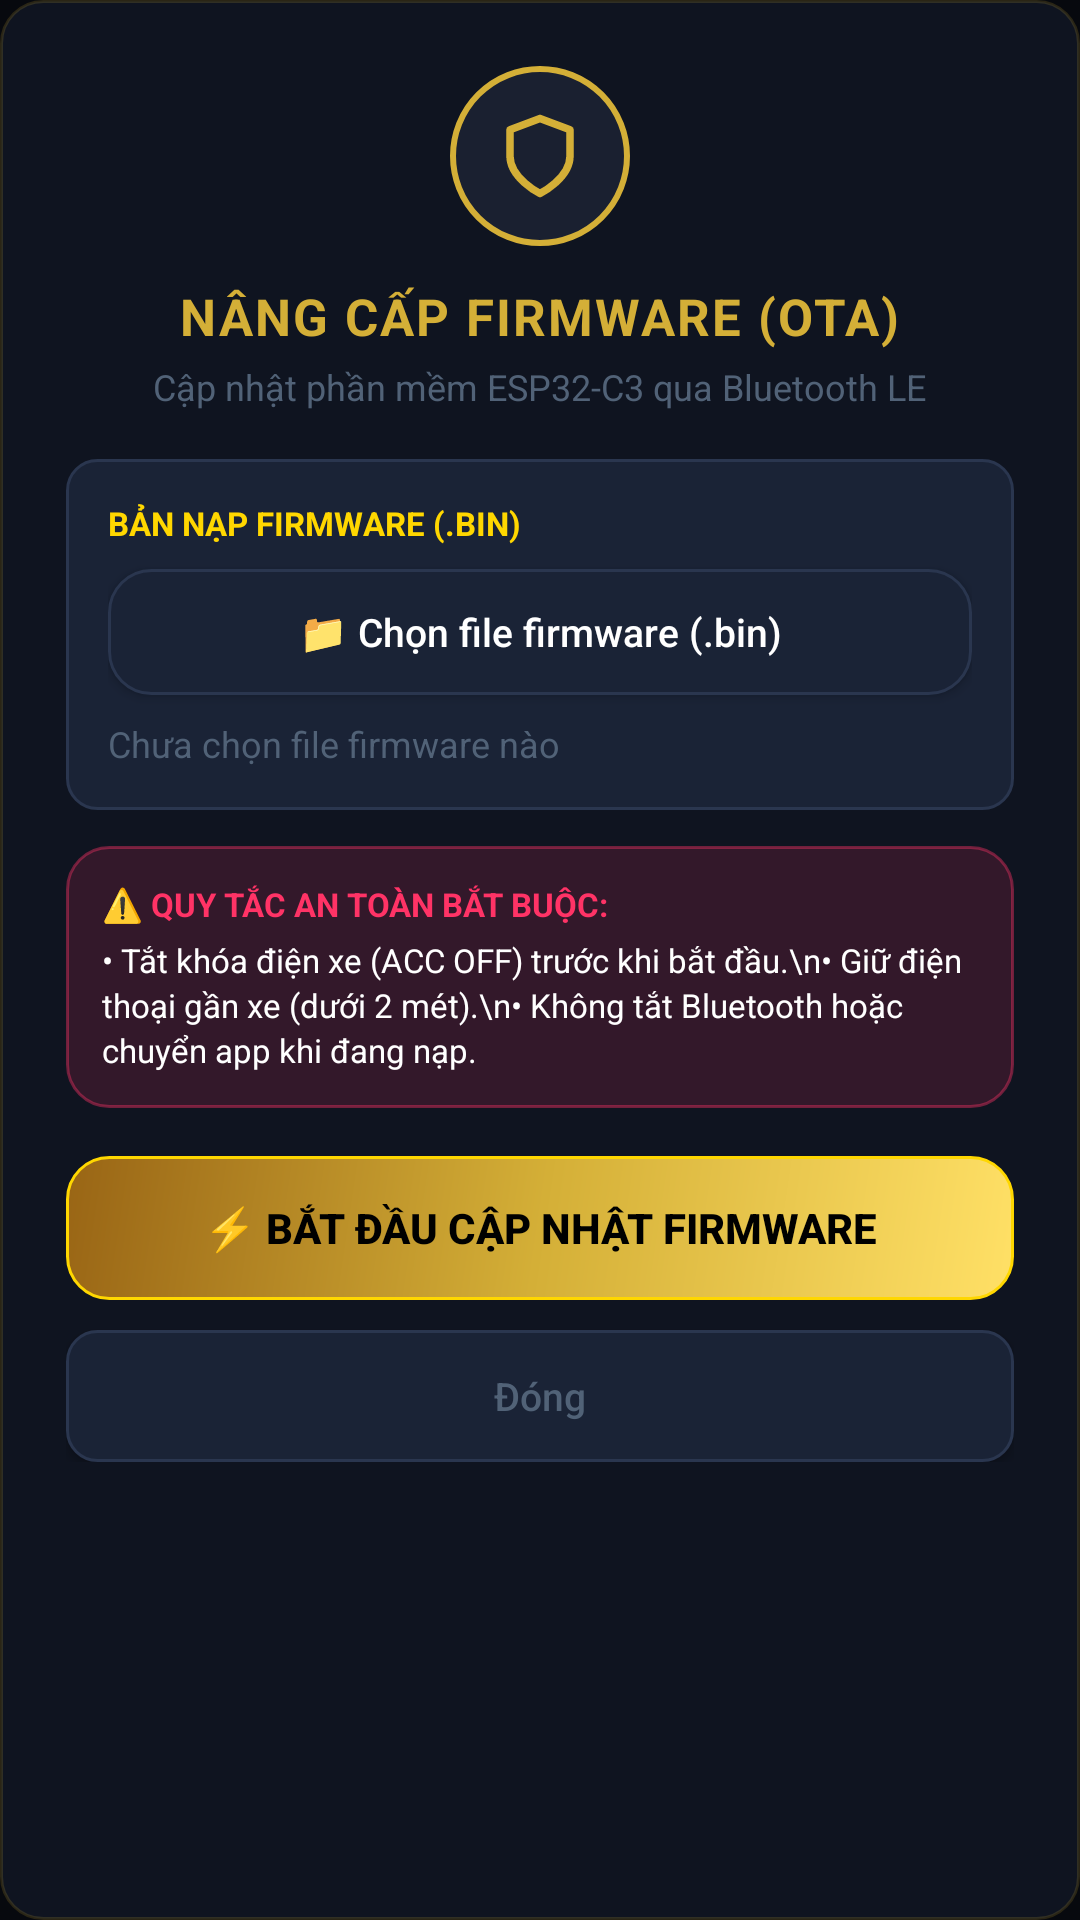

Screen size 1080x1920. Icon name, then its center in pixels as (x,y):
shield: (540,156)
